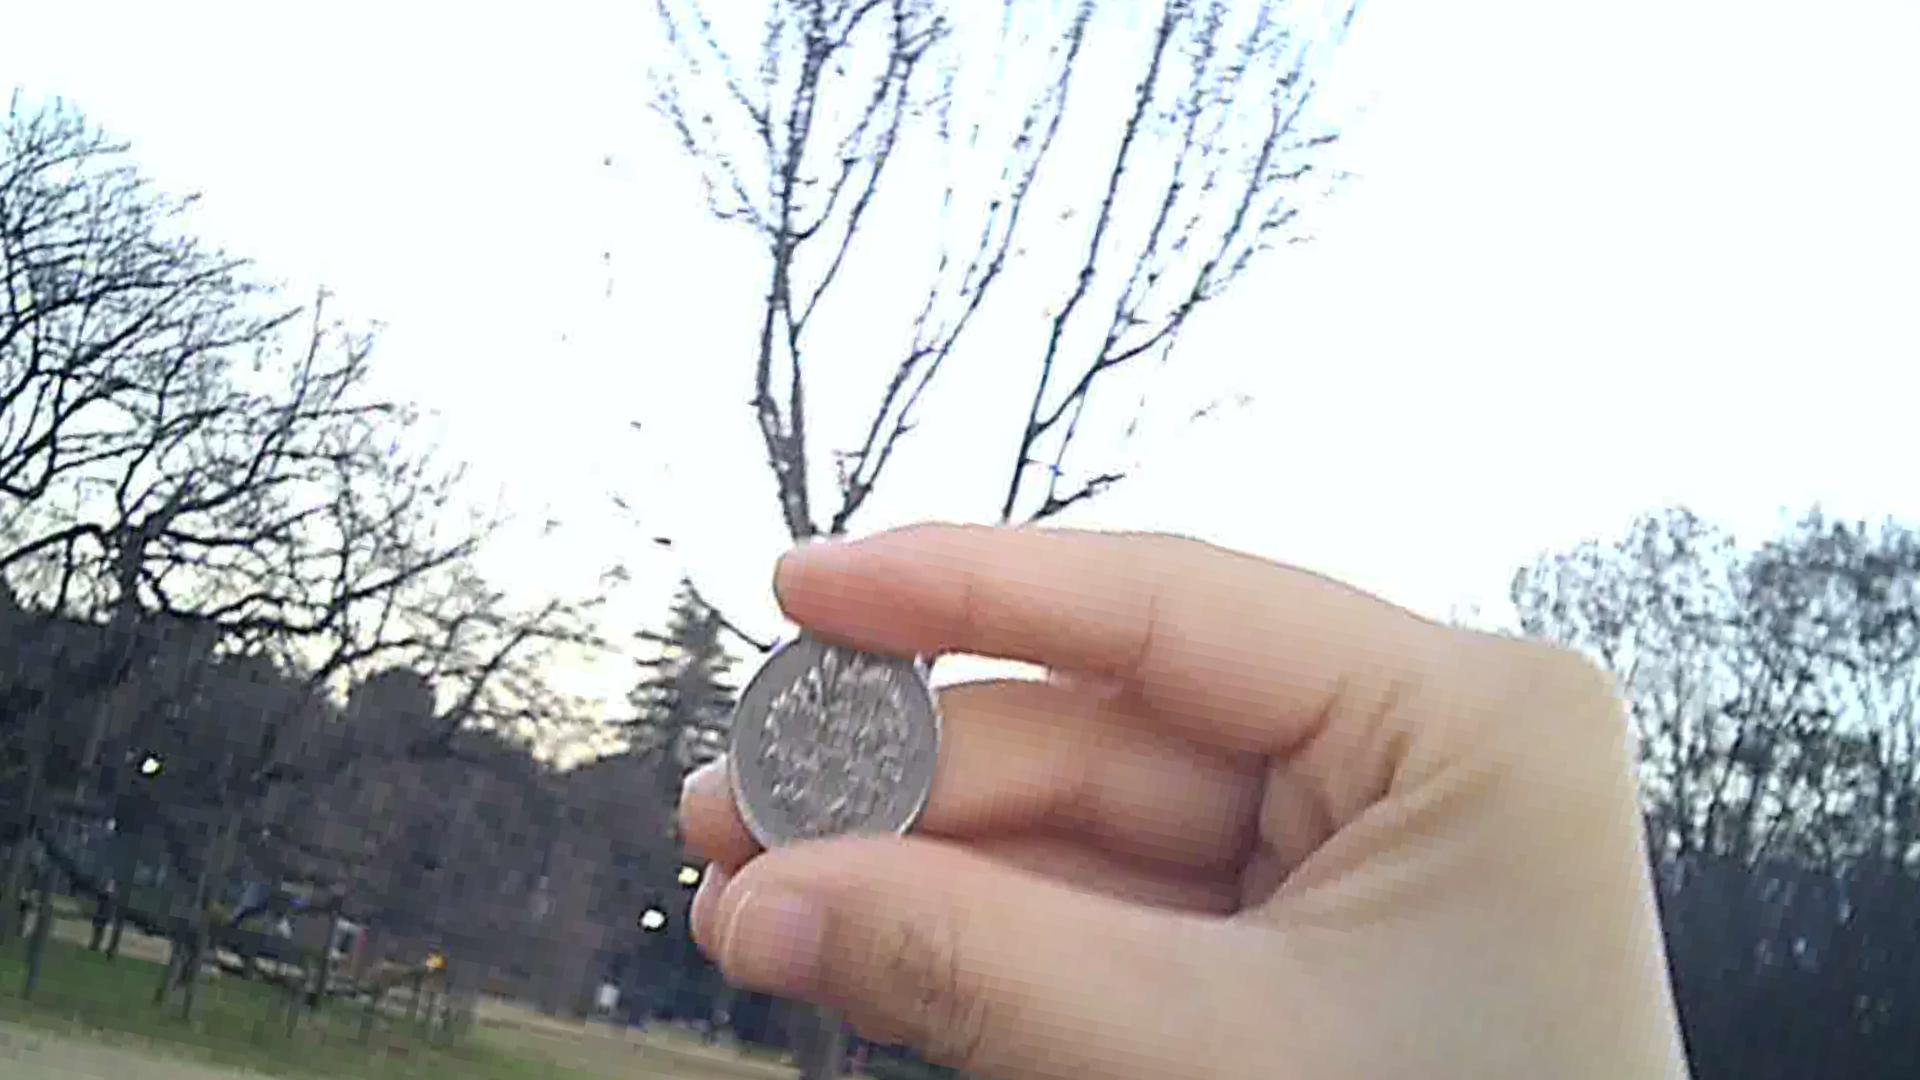100 Yen: (691, 618, 940, 862)
